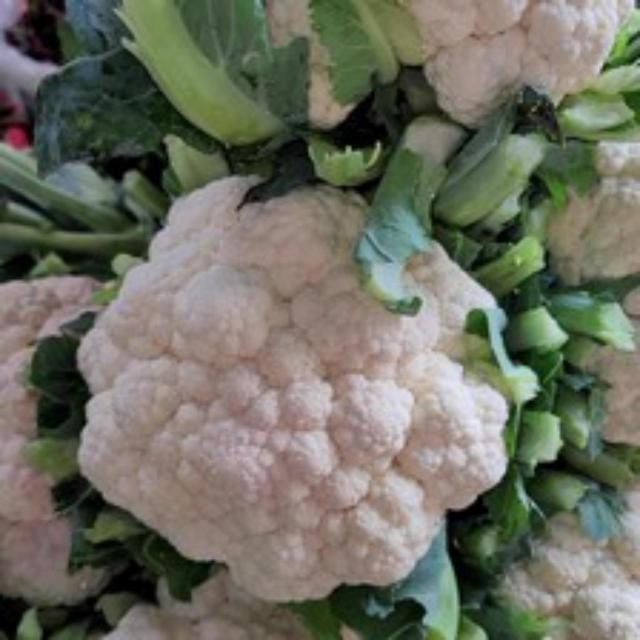cauliflower: (72, 175, 531, 616)
